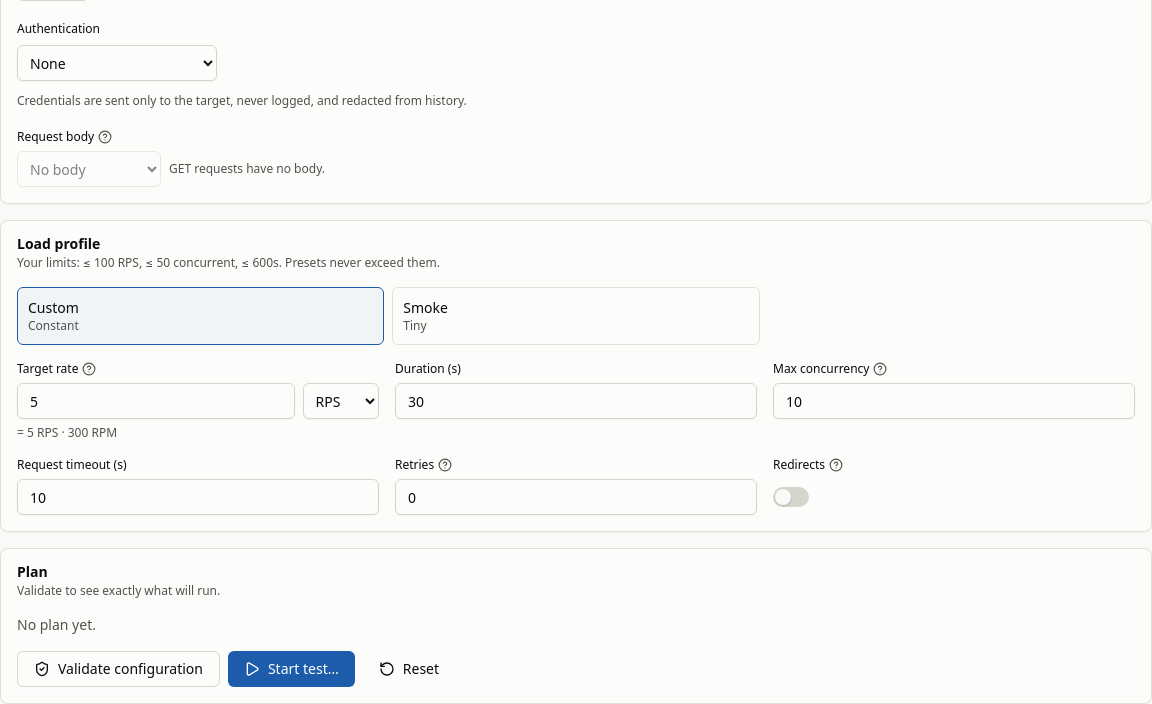
TestConfigForm › converts RPM to RPS in the hint
(page scrolled)
Replace the text in the number field labelled "Target rate" with "120": (156, 401) top-left (17, 383), bottom-right (295, 419)
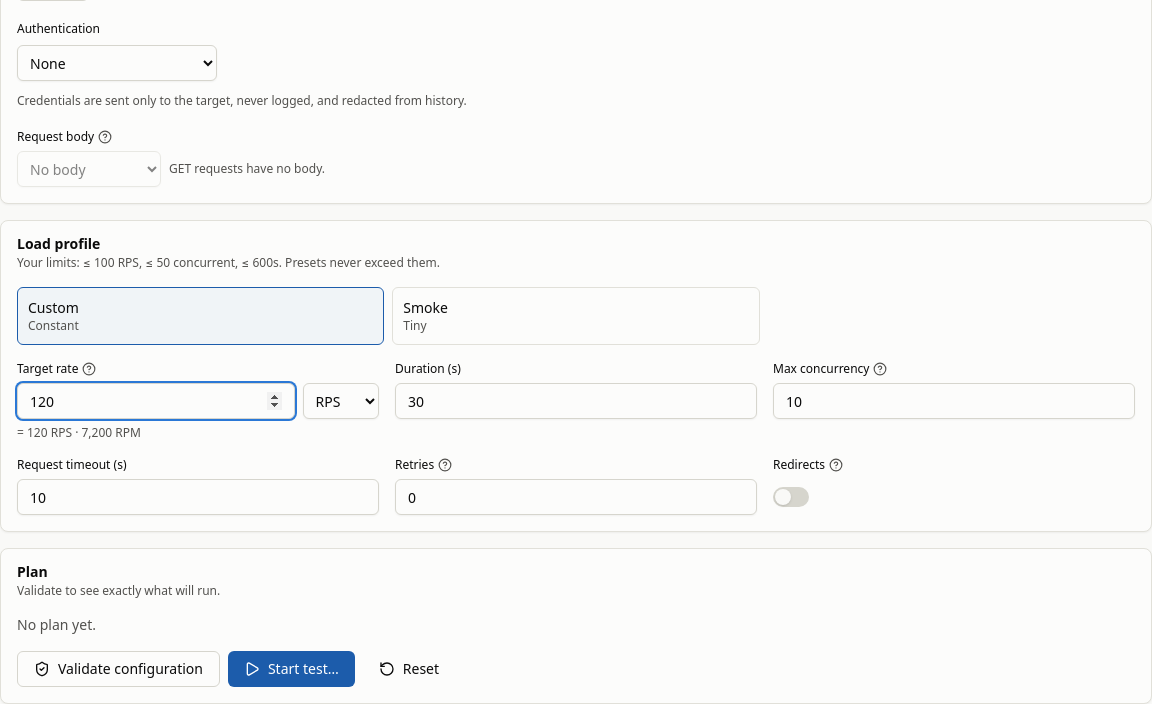
Select "RPM" in the dropdown named "Rate unit": (341, 401) top-left (303, 383), bottom-right (379, 419)
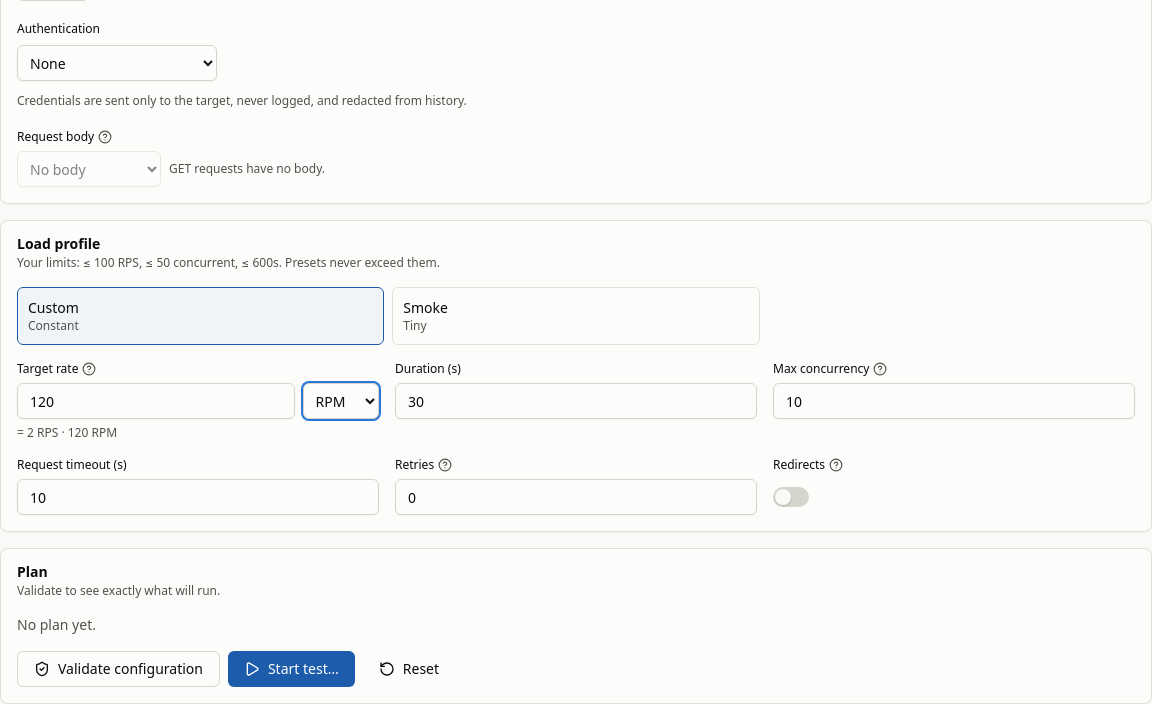
Now the text with test id "rate-conversion" reads "= 2 RPS · 120 RPM", box top-left (17, 424), bottom-right (117, 441)
